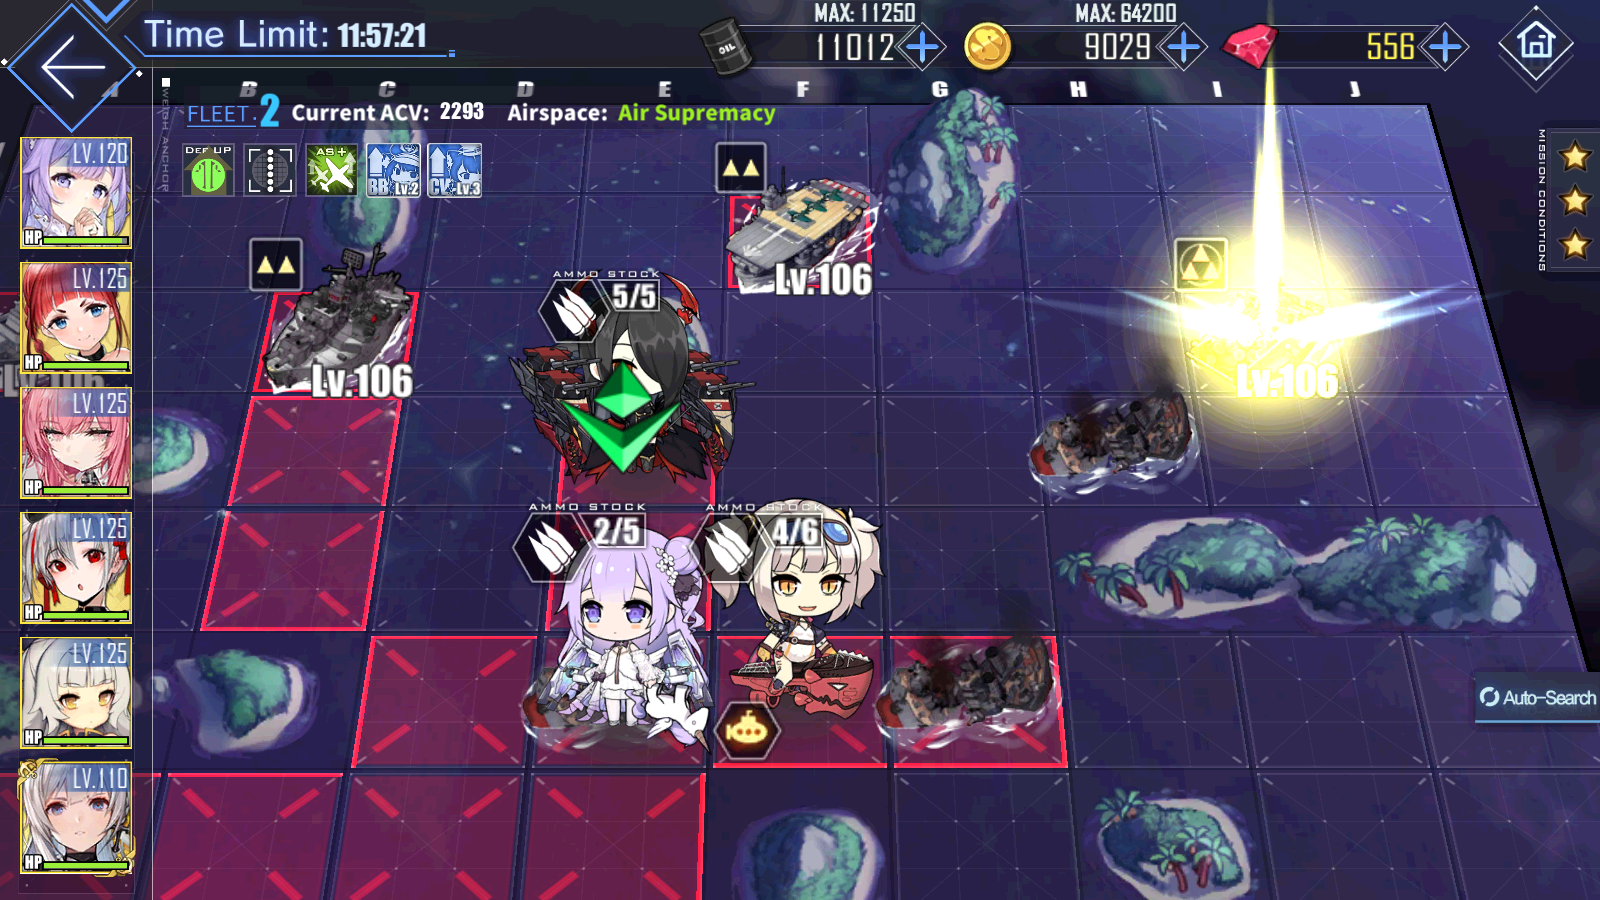ally: (510, 502, 708, 749), (509, 269, 735, 484), (695, 500, 884, 719)
enemy: (1175, 238, 1343, 396), (247, 237, 413, 395), (714, 142, 873, 293)
